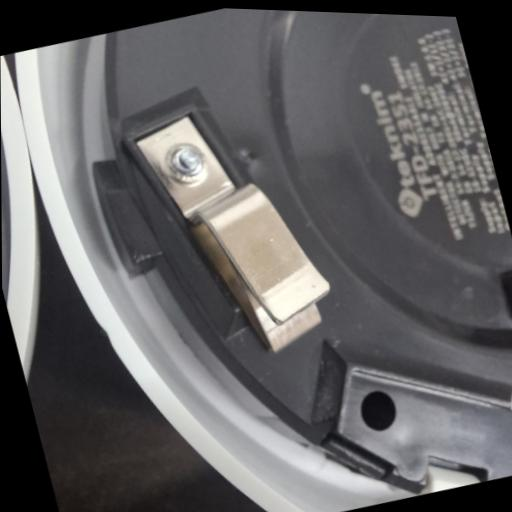yayli: (122, 82, 340, 375)
